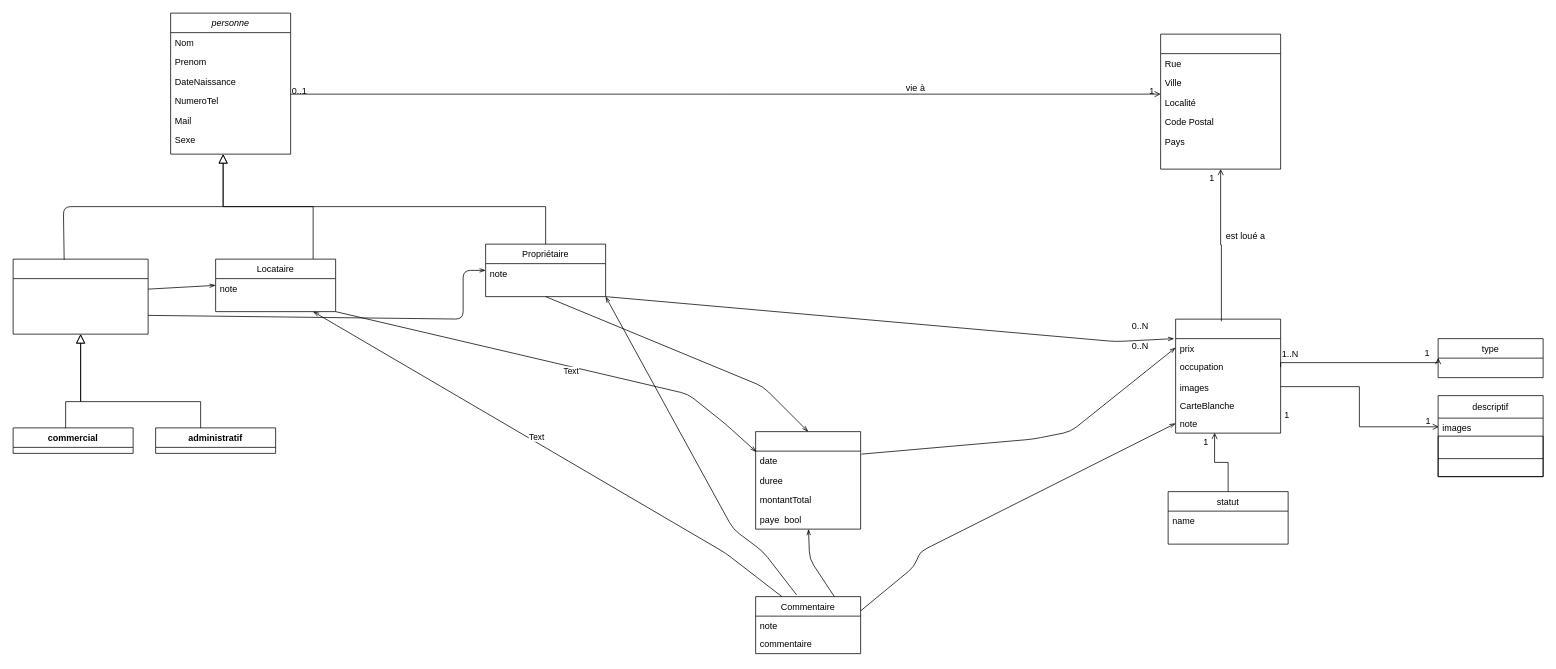
This 1556x669 diagram has some shape labels left out. Here are the shapes that lost their labels. From the top down, the box of each, then its label:
(1160, 33, 1281, 169): Address
(12, 258, 148, 334): Gestionnaire
(1175, 318, 1281, 433): Bien
(1437, 435, 1543, 477): m2
(755, 431, 861, 529): Réservation
